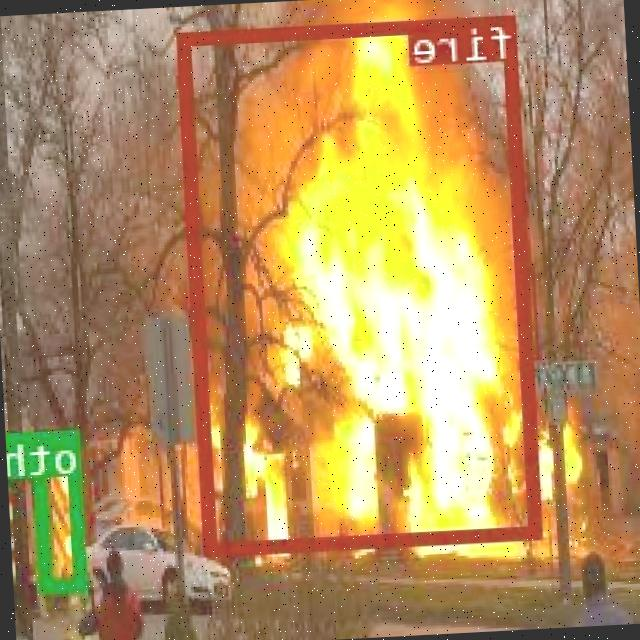fire: (181, 12, 546, 552)
